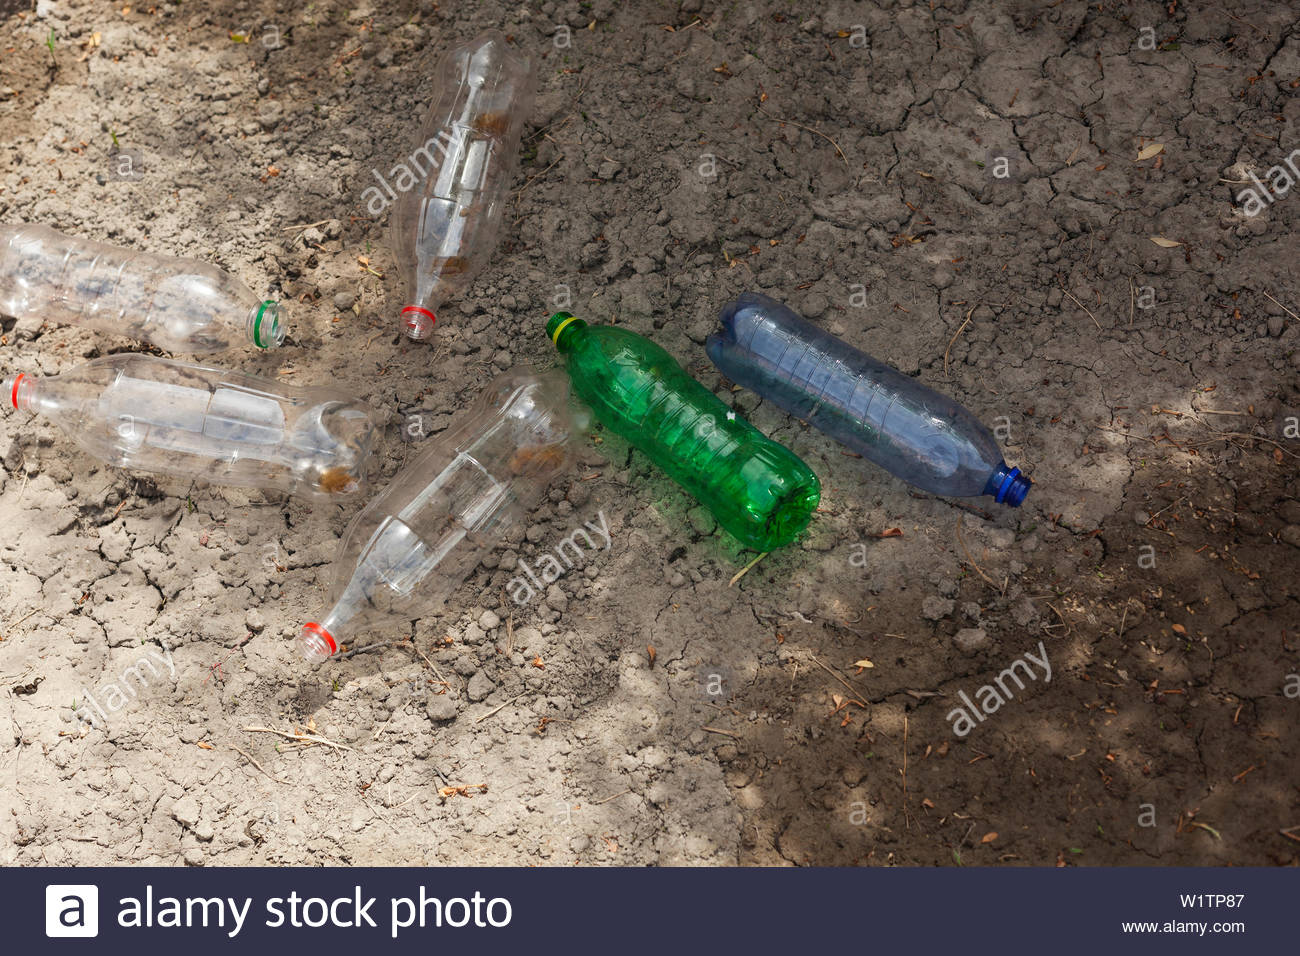plastic_bottle: (218, 255, 881, 793), (679, 206, 1152, 757), (510, 207, 955, 733), (317, 21, 844, 418), (5, 276, 469, 654), (1, 130, 475, 379)
